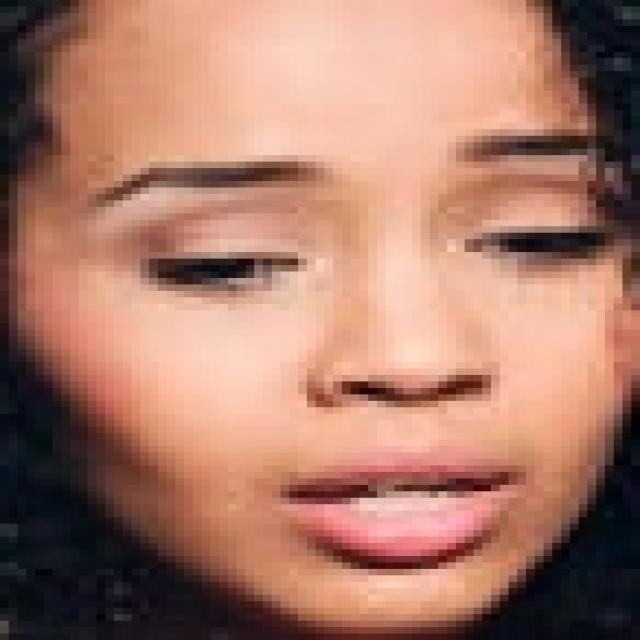Anxiety: (2, 0, 631, 634)
